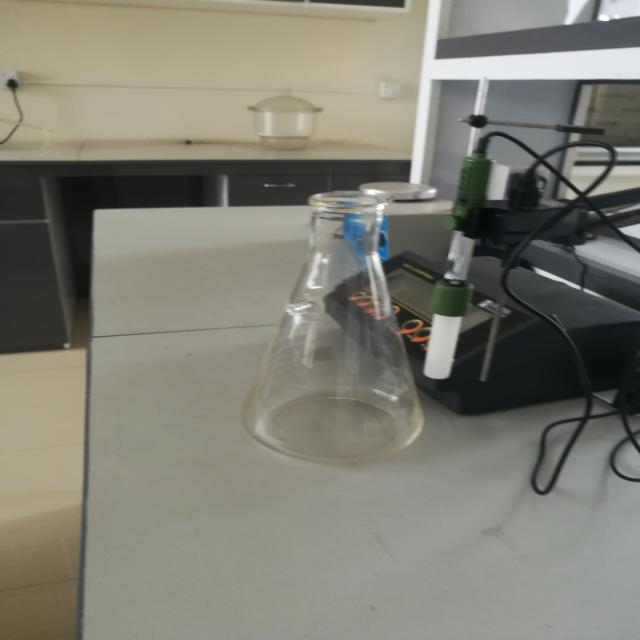Conical_Flask: (215, 150, 456, 482)
